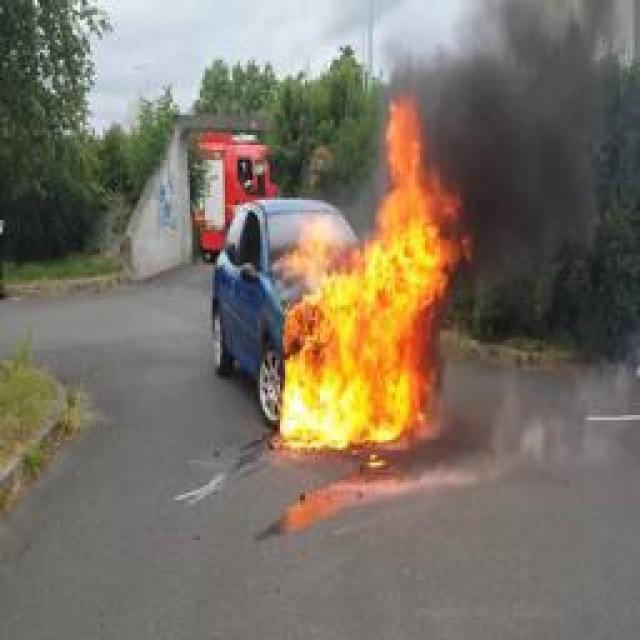Fire: (271, 92, 474, 448)
